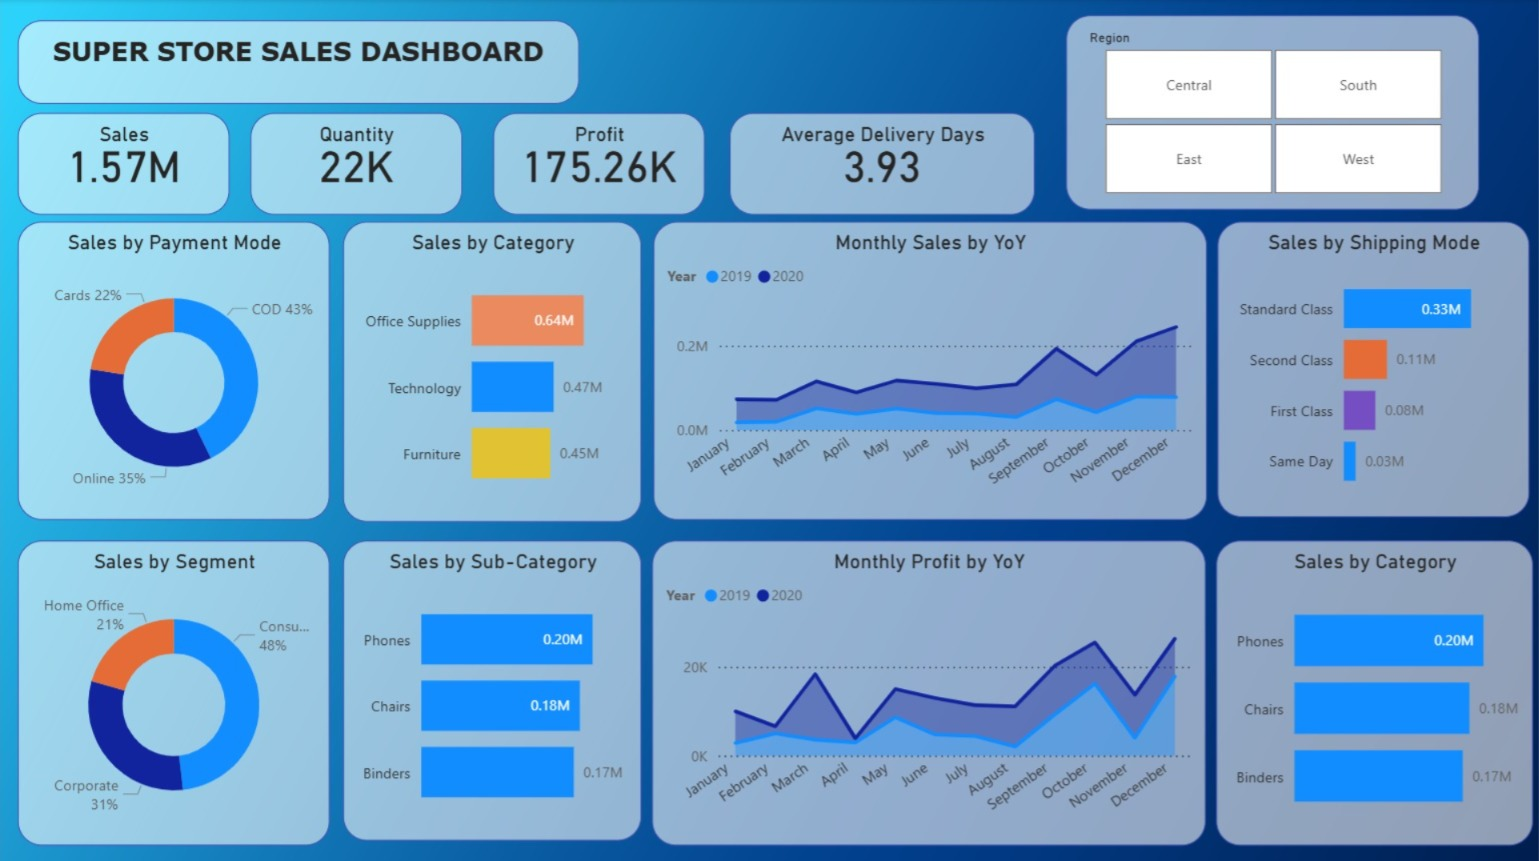

This screenshot's page, from the dashboard's own definition file:
{"tool":"powerbi","page":{"name":"Page 1","canvas":[1280,720],"ordinal":0},"visuals":[{"type":"clusteredBarChart","title":"Sales by Sub-Category","fields":{"Category":["Sheet1.Sub-Category"],"Y":["Sum(Sheet1.Sales)"]},"box":[285.4,450.1,248.4,249.7],"z":0},{"type":"clusteredBarChart","title":"Sales by State","fields":{"Category":["Sheet1.State"],"Y":["Sum(Sheet1.Sales)"]},"box":[1011.3,450.1,263.5,253.9],"z":1000},{"type":"clusteredBarChart","title":"Sales by Shipping Mode","fields":{"Category":["Sheet1.Ship Mode"],"Y":["Sum(Sheet1.Sales)"]},"box":[1012.7,185.2,259.3,245.6],"z":2000},{"type":"stackedAreaChart","title":"Monthly Sales by YoY","fields":{"Category":["Sheet1.Order Date.Variation.Date Hierarchy.Month","Sheet1.Order Date.Variation.Date Hierarchy.Day"],"Y":["Sum(Sheet1.Sales)"],"Series":["Sheet1.Order Date.Variation.Date Hierarchy.Year"]},"box":[543.4,185.2,459.7,248.4],"z":3000},{"type":"stackedAreaChart","title":"Monthly Profit by YoY","fields":{"Category":["Sheet1.Order Date.Variation.Date Hierarchy.Month","Sheet1.Order Date.Variation.Date Hierarchy.Day"],"Series":["Sheet1.Order Date.Variation.Date Hierarchy.Year"],"Y":["Sum(Sheet1.Profit)"]},"box":[542,450.1,459.7,253.9],"z":4000},{"type":"donutChart","title":"Sales by Segment","fields":{"Y":["Sum(Sheet1.Sales)"],"Category":["Sheet1.Segment"]},"box":[15.1,450.1,259.3,253.9],"z":5000},{"type":"donutChart","title":"Sales by Payment Mode","fields":{"Y":["Sum(Sheet1.Sales)"],"Category":["Sheet1.Payment Mode"]},"box":[15.1,185.2,259.3,248.4],"z":6000},{"type":"slicer","title":"Sales by Shipping Mode","fields":{"Values":["Sheet1.Region"]},"box":[886.5,13.7,343.1,161.9],"z":7000},{"type":"textbox","box":[15.1,17.8,466.6,70],"z":8000},{"type":"clusteredBarChart","title":"Sales by Category","fields":{"Category":["Sheet1.Category"],"Y":["Sum(Sheet1.Sales)"]},"box":[285.4,185.2,248.4,249.7],"z":9000},{"type":"card","title":"Sales","fields":{"Values":["Sum(Sheet1.Sales)"]},"box":[15.1,94.7,175.6,85.1],"z":10000},{"type":"card","title":"Quantity","fields":{"Values":["Sum(Sheet1.Quantity)"]},"box":[208.6,94.7,175.6,85.1],"z":11000},{"type":"card","title":"Profit","fields":{"Values":["Sum(Sheet1.Profit)"]},"box":[410.3,94.7,175.6,85.1],"z":12000},{"type":"card","title":"Average Delivery Days","fields":{"Values":["Avg(Sheet1.Avg Delivery)"]},"box":[606.5,94.7,253.9,85.1],"z":13000}]}

Visuals, with their boxes in screenshot pixels (x1, y1, x2, y2), scaled from the page's 1280x720 canvas onto the 1539x861 screenshot:
"Sales by Sub-Category" clusteredBarChart: BBox(343, 538, 642, 837)
"Sales by State" clusteredBarChart: BBox(1216, 538, 1533, 842)
"Sales by Shipping Mode" clusteredBarChart: BBox(1218, 221, 1529, 515)
"Monthly Sales by YoY" stackedAreaChart: BBox(653, 221, 1206, 519)
"Monthly Profit by YoY" stackedAreaChart: BBox(652, 538, 1204, 842)
"Sales by Segment" donutChart: BBox(18, 538, 330, 842)
"Sales by Payment Mode" donutChart: BBox(18, 221, 330, 519)
"Sales by Shipping Mode" slicer: BBox(1066, 16, 1478, 210)
textbox: BBox(18, 21, 579, 105)
"Sales by Category" clusteredBarChart: BBox(343, 221, 642, 520)
"Sales" card: BBox(18, 113, 229, 215)
"Quantity" card: BBox(251, 113, 462, 215)
"Profit" card: BBox(493, 113, 704, 215)
"Average Delivery Days" card: BBox(729, 113, 1034, 215)
